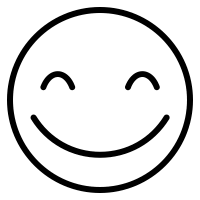feliz: (2, 11, 196, 194), (31, 49, 174, 156)
